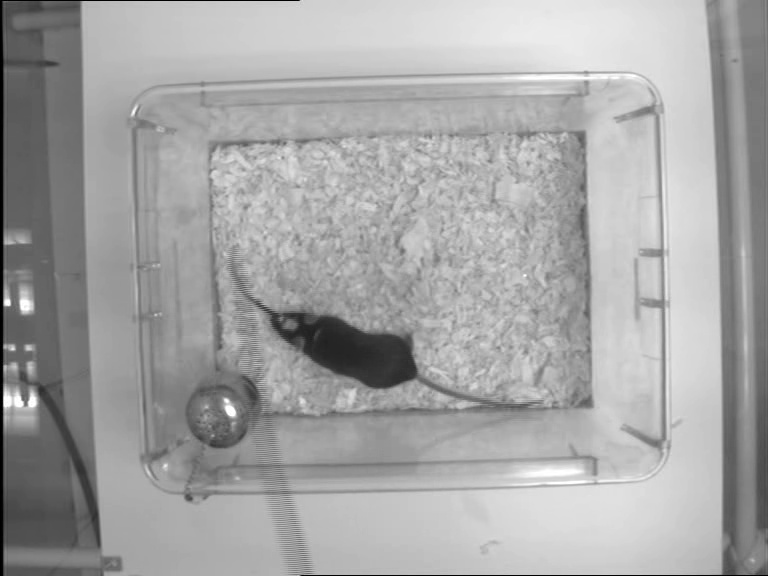mice: (264, 301, 545, 407)
